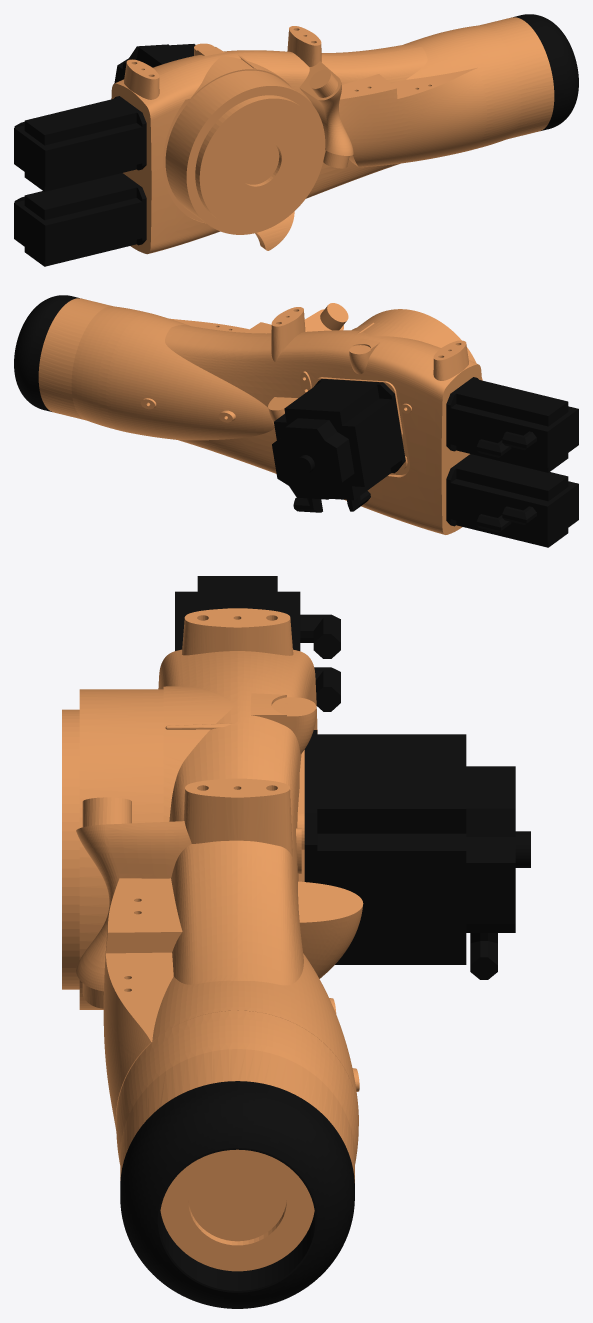
3 renders of one model, top to bottom at view 1: azimuth 30°, elevation 25°; view 2: azimuth 150°, elevation 25°; view 3: azimuth 270°, elevation 25°, orthographic. The views are drawn at different scales.
Parts seen in each view (by area): view 1: Link_3, Link_3_Motor1, Link_3_Motor2, Link_3_Motor3, Link_3_Motor4; view 2: Link_3, Link_3_Motor4, Link_3_Motor1, Link_3_Motor2, Link_3_Motor3; view 3: Link_3, Link_3_Motor4, Link_3_Motor3, Link_3_Motor1.
Boxes of the visible parts, x1=… form: Link_3: x1=111, y1=17, x2=554, y2=254; Link_3_Motor1: x1=14, y1=96, x2=146, y2=191; Link_3_Motor2: x1=14, y1=173, x2=146, y2=266; Link_3_Motor3: x1=513, y1=14, x2=578, y2=130; Link_3_Motor4: x1=114, y1=44, x2=195, y2=83; Link_3: x1=38, y1=298, x2=482, y2=534; Link_3_Motor4: x1=272, y1=378, x2=405, y2=512; Link_3_Motor1: x1=446, y1=377, x2=578, y2=472; Link_3_Motor2: x1=446, y1=454, x2=578, y2=547; Link_3_Motor3: x1=14, y1=295, x2=79, y2=411; Link_3: x1=62, y1=608, x2=363, y2=1271; Link_3_Motor4: x1=304, y1=730, x2=530, y2=979; Link_3_Motor3: x1=120, y1=1081, x2=354, y2=1308; Link_3_Motor1: x1=175, y1=576, x2=340, y2=711.
Size of the model in its own units: 1.24 by 0.4755 by 0.4294.
